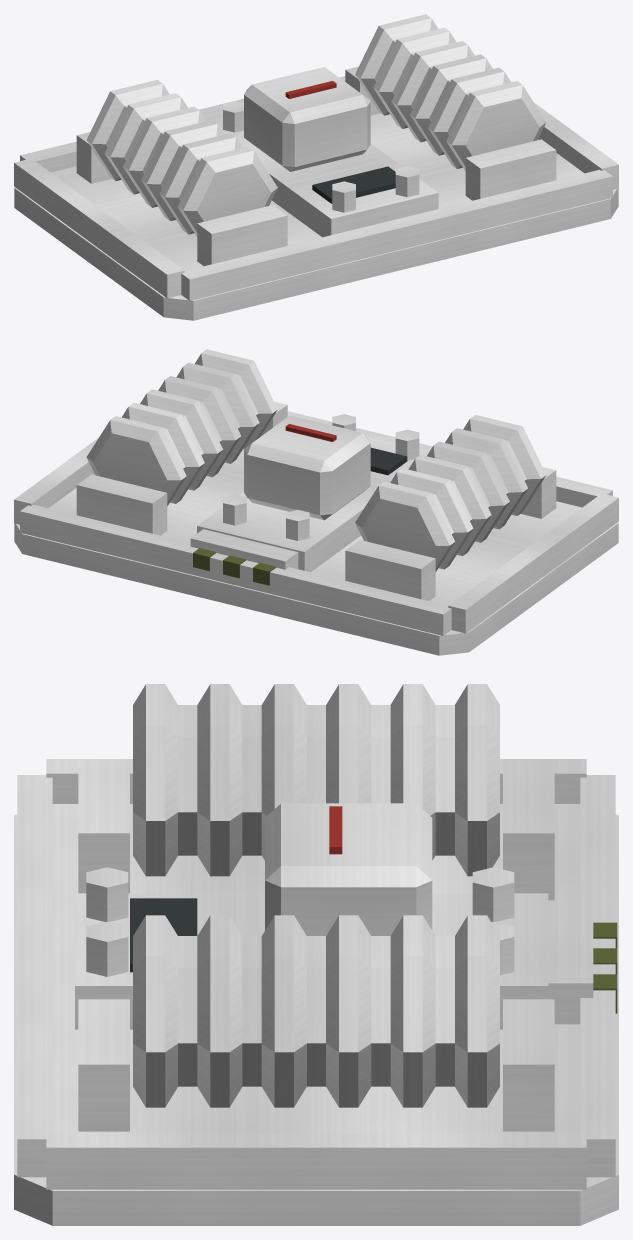
Rendered from standard_recharger.obj.
3 views of the same model, one above another, from view 1: azimuth 30°, elevation 25°; view 2: azimuth 150°, elevation 25°; view 3: azimuth 270°, elevation 25° (orthographic). The views are drawn at different scales.
Visible parts, largest first — view 1: standard_recharger; view 2: standard_recharger; view 3: standard_recharger.
Boxes of the visible parts, left/top/right/bottom form: standard_recharger: left=14, top=14, right=618, bottom=320; standard_recharger: left=14, top=349, right=618, bottom=655; standard_recharger: left=14, top=684, right=618, bottom=1225.
Size of the model in its own units: 2.88 by 0.7198 by 1.88.
